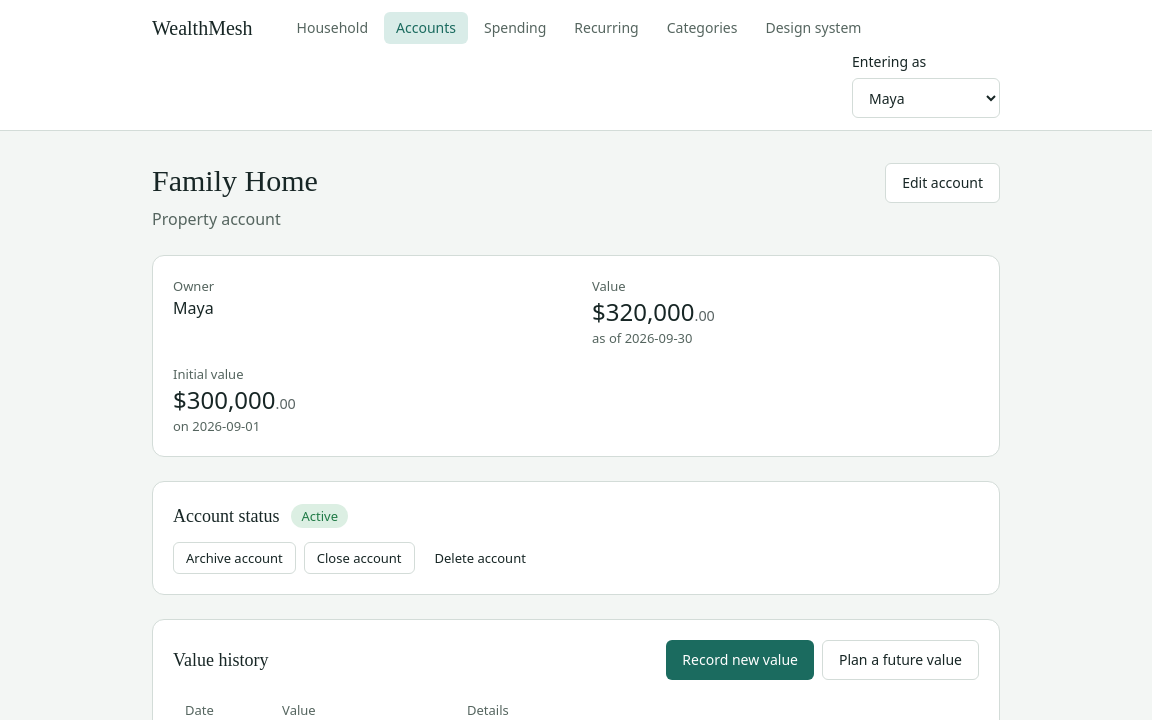
Test: words of the thing shown › V2_PROPERTY_006 the plan review labels the figure as the planned value
This screenshot has width=1152, height=720.
Click the button "Plan a future value" at x=900, y=660, box [822, 640, 979, 680]
(page scrolled)
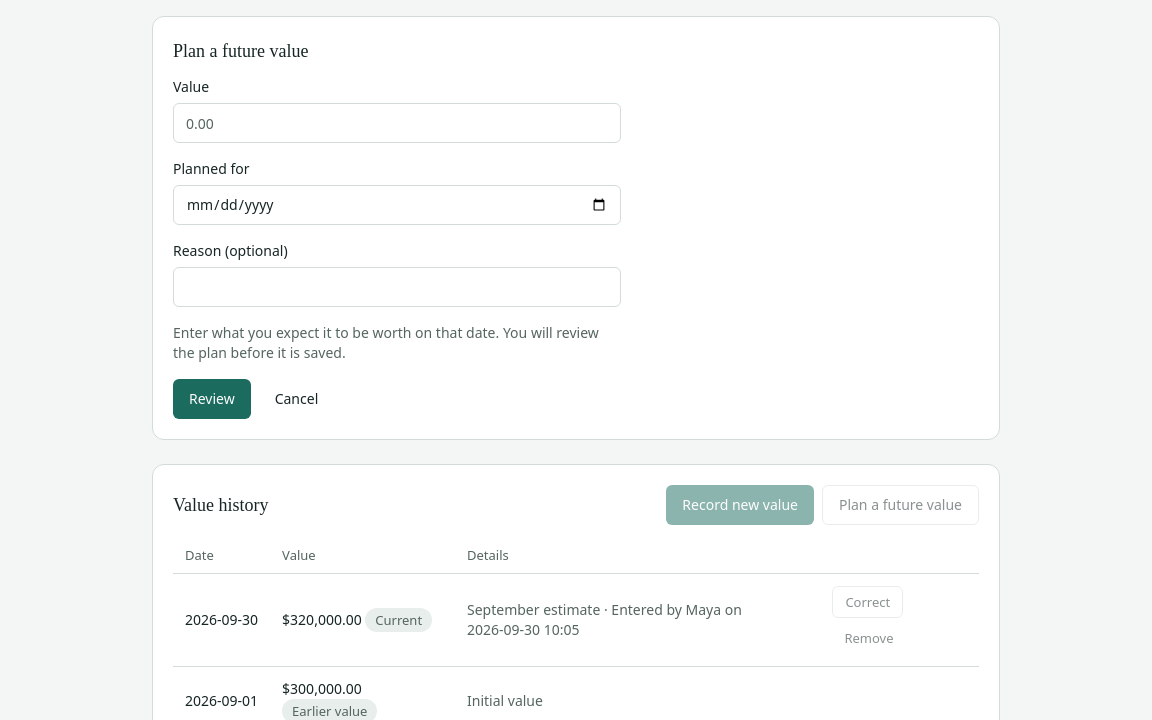
Type "340,000.00" into the field labelled "Value" at x=397, y=123, box [173, 103, 621, 143]
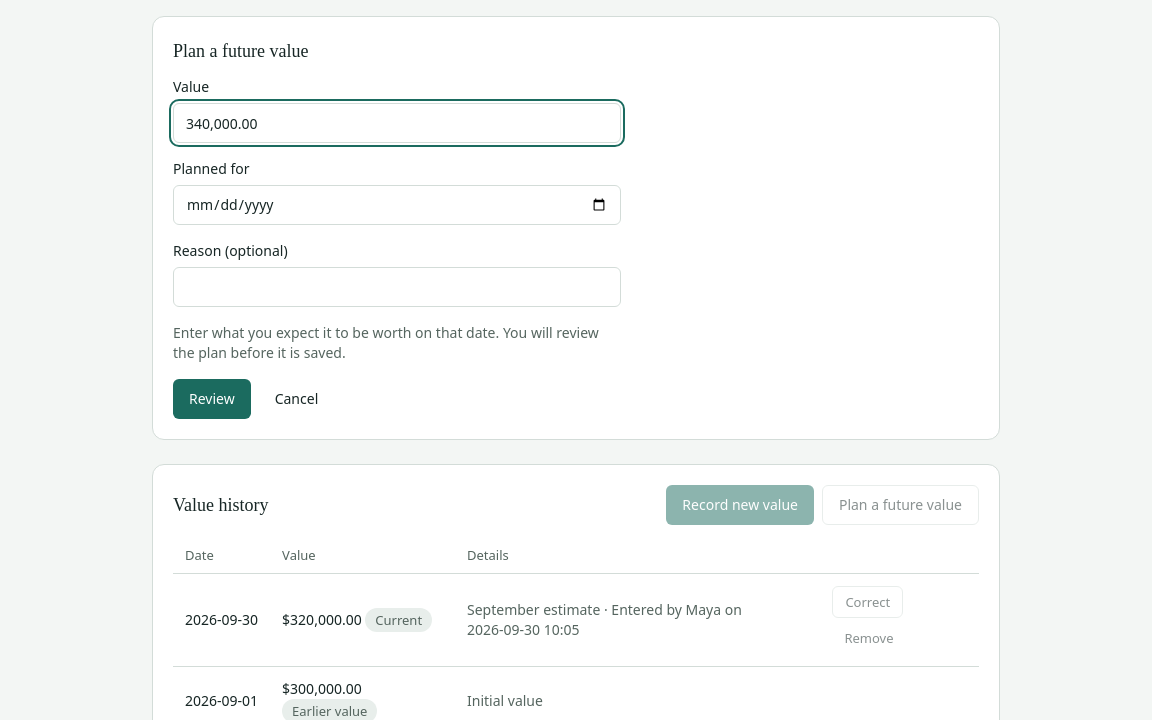
Type "2026-12-01" into the date field labelled "Planned for" at x=397, y=205, box [173, 185, 621, 225]
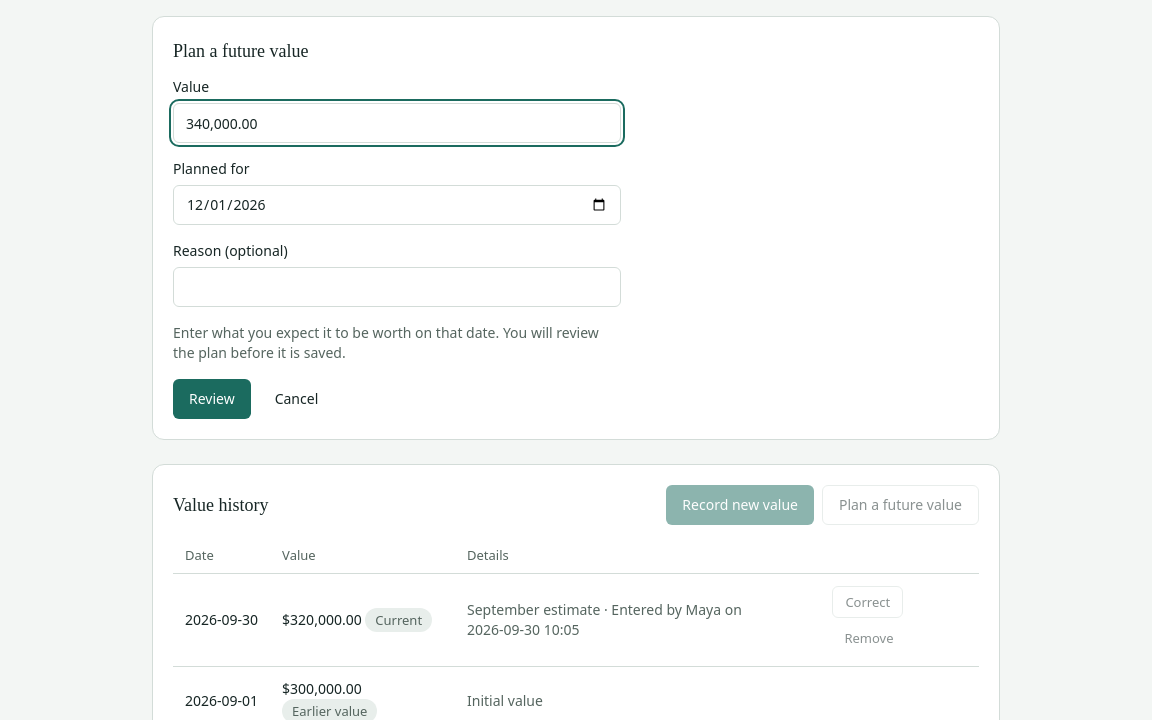
Click the button "Review" at x=212, y=399, box [173, 379, 251, 419]
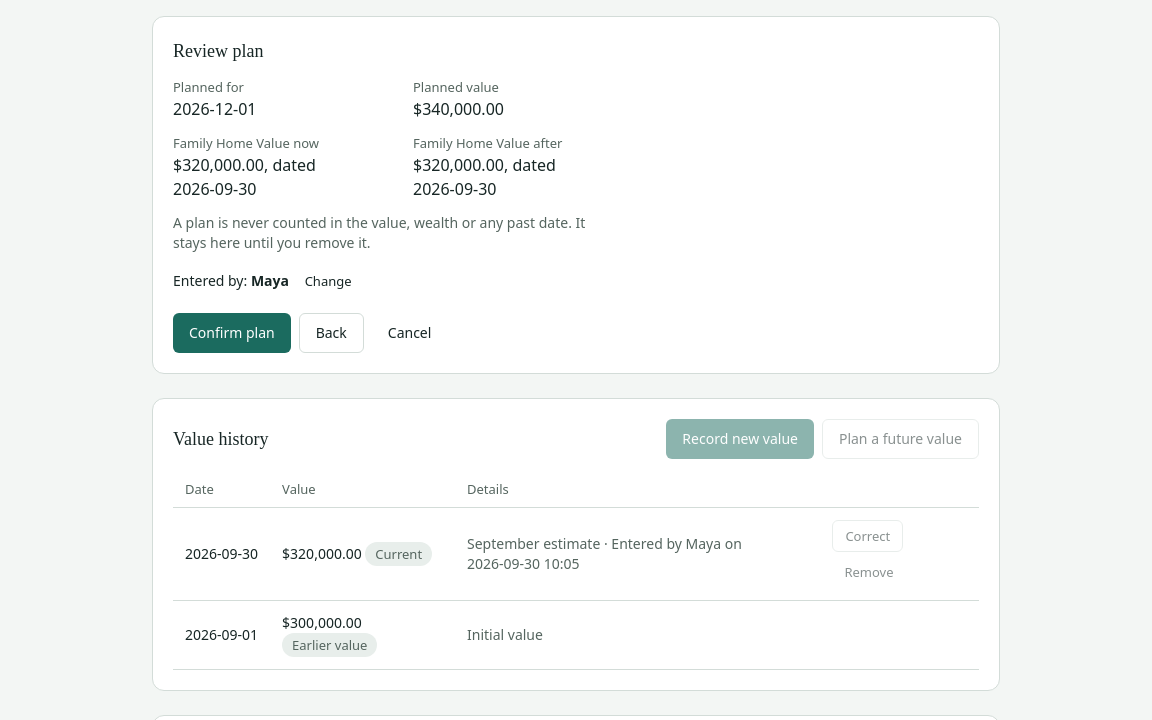
Expected: the text "Planned value" is shown, [413, 78, 499, 96]
